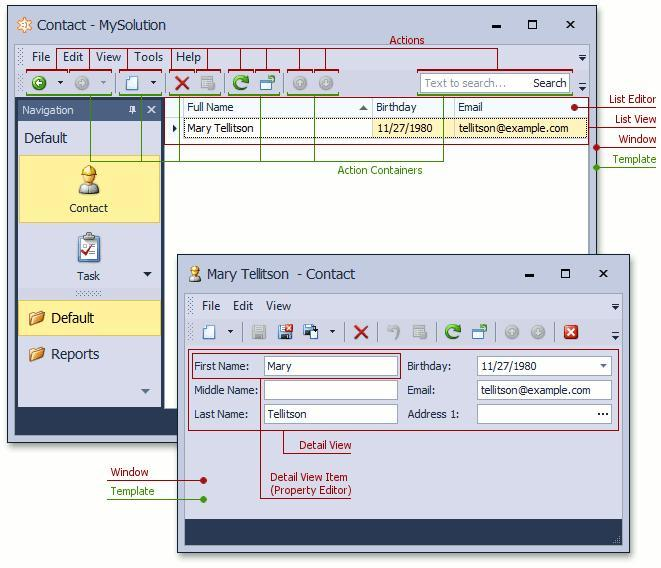dropdown: (479, 357, 612, 377), (326, 321, 344, 343), (223, 325, 238, 343)
icon: (468, 321, 493, 344), (560, 321, 581, 344), (384, 323, 404, 346), (411, 326, 436, 344), (201, 323, 221, 344), (503, 325, 523, 346), (445, 323, 464, 345), (303, 321, 321, 344), (530, 324, 548, 347), (273, 325, 295, 343), (352, 326, 373, 342), (253, 323, 269, 343)
input: (265, 379, 400, 402), (478, 380, 612, 401), (266, 356, 398, 377), (266, 405, 398, 426), (478, 404, 613, 423)
label: (190, 405, 255, 425), (190, 383, 261, 401), (406, 405, 462, 425), (196, 357, 252, 376), (406, 358, 454, 374), (403, 384, 442, 400)
